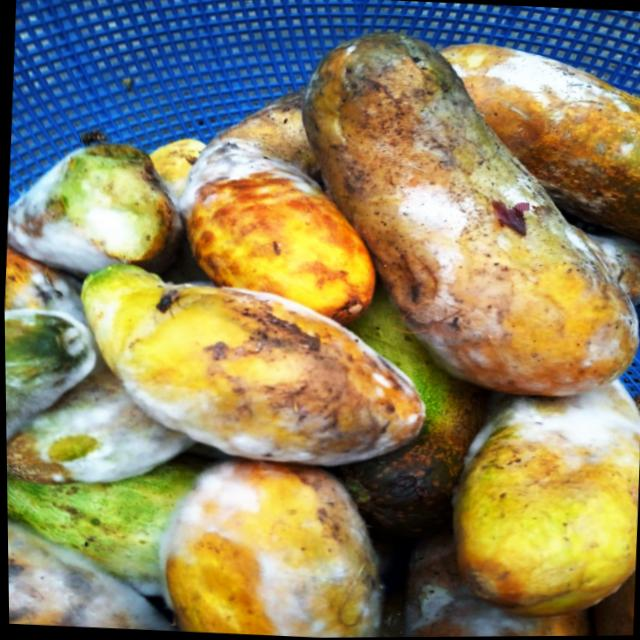Pythium-Fruit-Rot: (288, 23, 640, 396), (81, 269, 432, 475), (156, 458, 383, 639), (456, 367, 640, 498), (4, 368, 198, 492), (469, 44, 640, 163), (4, 140, 151, 276), (3, 258, 103, 450), (6, 517, 169, 632), (175, 127, 325, 227), (397, 576, 538, 638), (578, 228, 640, 306)
